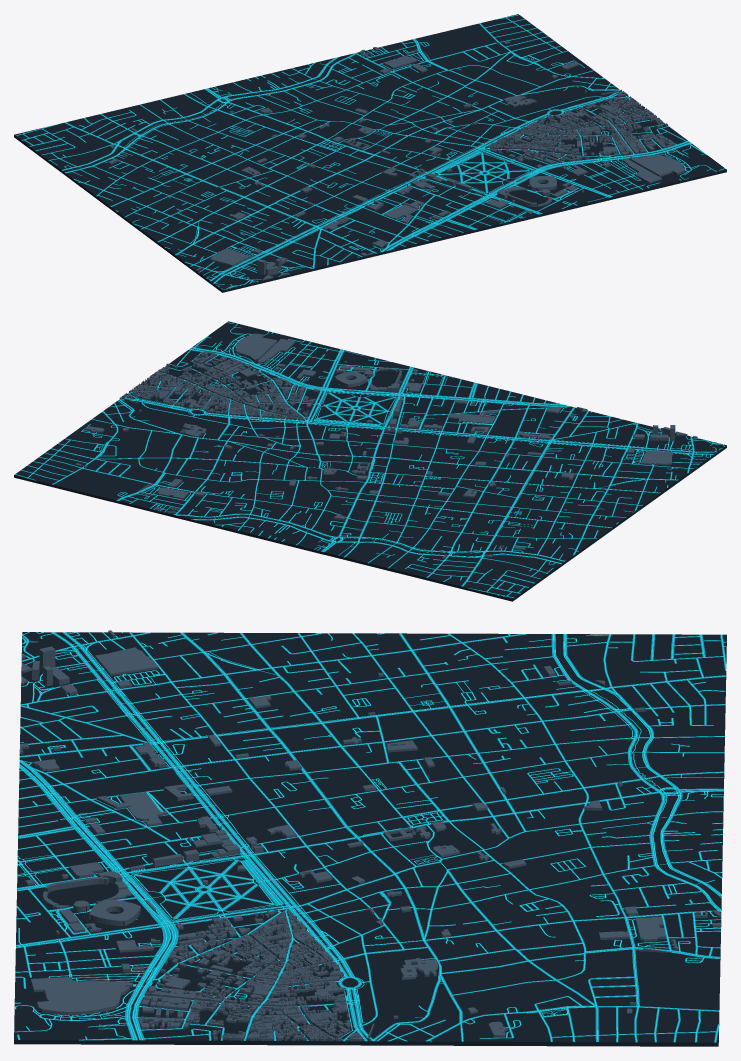
The model's file is queretaro-centro.glb.
3 renders of one model, top to bottom at view 1: azimuth 30°, elevation 25°; view 2: azimuth 150°, elevation 25°; view 3: azimuth 270°, elevation 25°, orthographic. The views are drawn at different scales.
Visible parts, largest first — view 1: Base, Calles, Edificios, Ejes cian; view 2: Base, Calles, Edificios, Ejes cian; view 3: Base, Calles, Edificios, Ejes cian.
Part boxes in pixels (x1,y1,x2,y2): Base: (14,14,726,292); Calles: (15,14,725,289); Edificios: (108,41,684,282); Ejes cian: (19,14,724,288); Base: (14,321,726,601); Calles: (15,322,724,598); Edificios: (75,333,700,558); Ejes cian: (15,323,724,597); Base: (14,632,726,1046); Calles: (14,632,726,1042); Edificios: (19,630,721,1041); Ejes cian: (15,632,726,1042).
Size of the model in its own units: 2517 by 72 by 1848.
